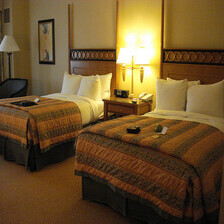laptop: (13, 93, 36, 112)
